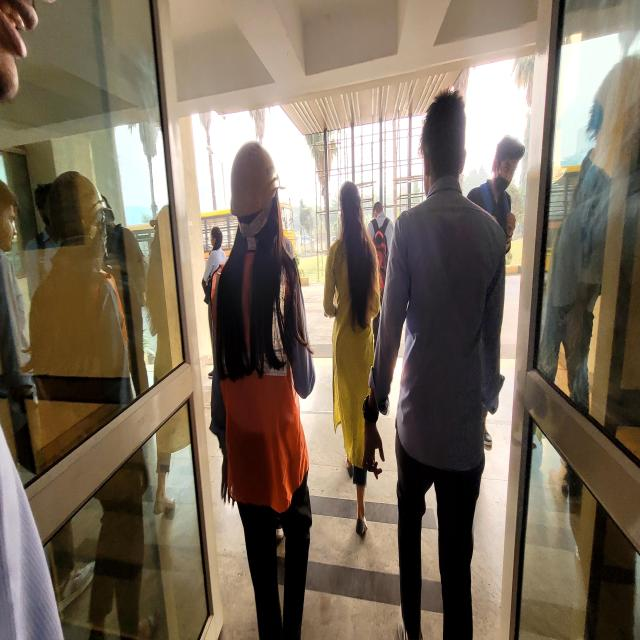safe: (211, 142, 314, 640)
unsafe: (366, 88, 503, 640), (322, 182, 378, 543), (470, 136, 522, 421), (369, 197, 395, 400)
